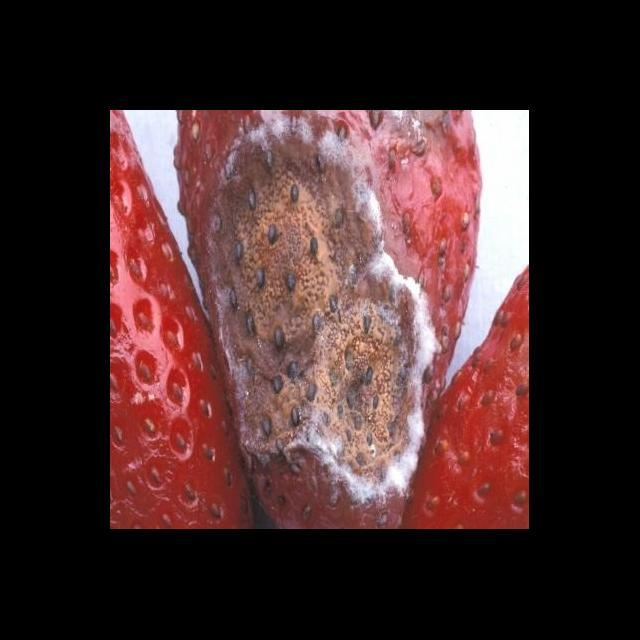Anthracnose Fruit Rot: (183, 111, 458, 528)
